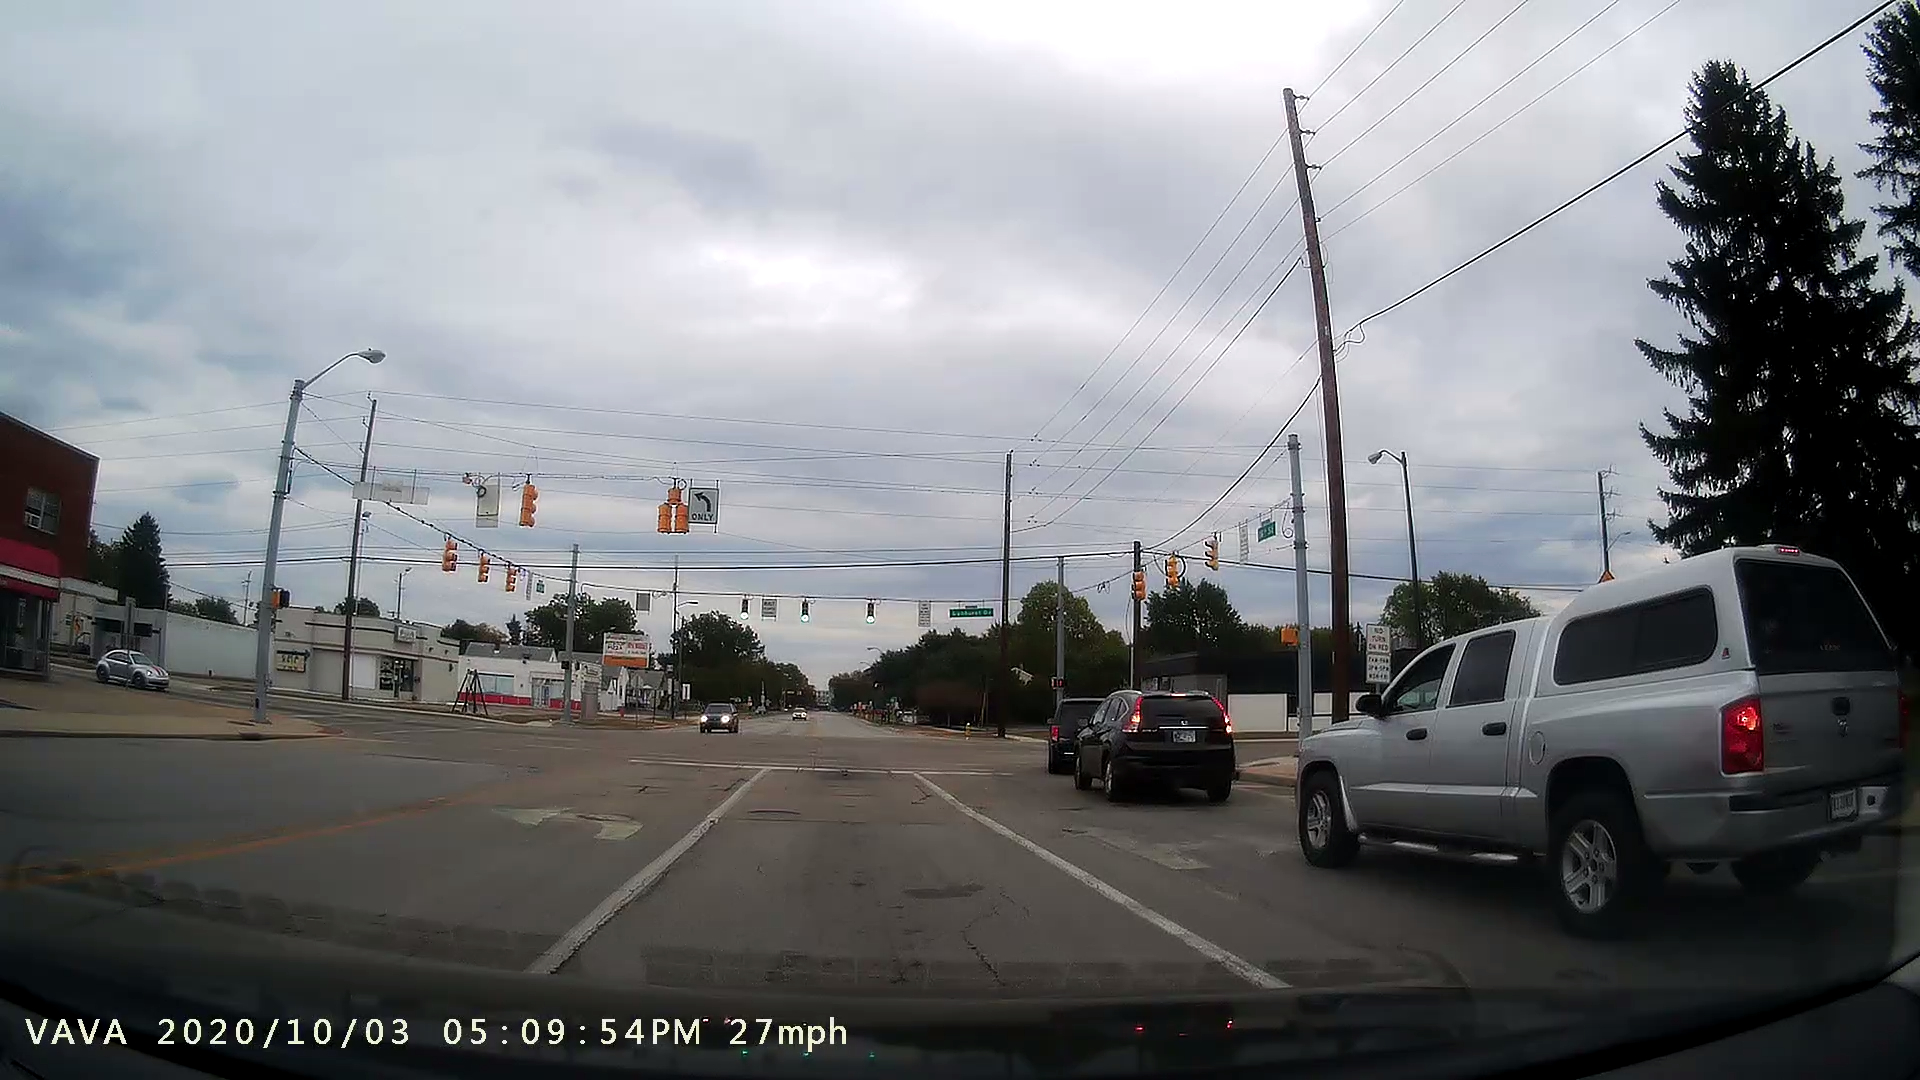left_turn: (487, 779, 649, 857)
